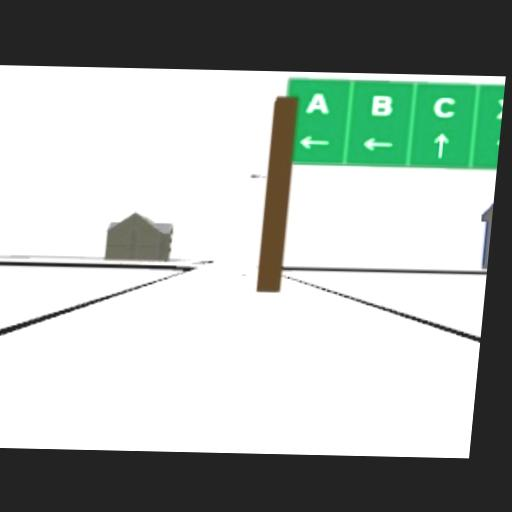A: (303, 91, 330, 113)
B: (370, 95, 393, 116)
C: (431, 96, 456, 118)
Left: (297, 135, 331, 150), (360, 136, 394, 151)
Straight: (431, 131, 449, 157), (494, 134, 500, 159)
X: (494, 98, 503, 119)
